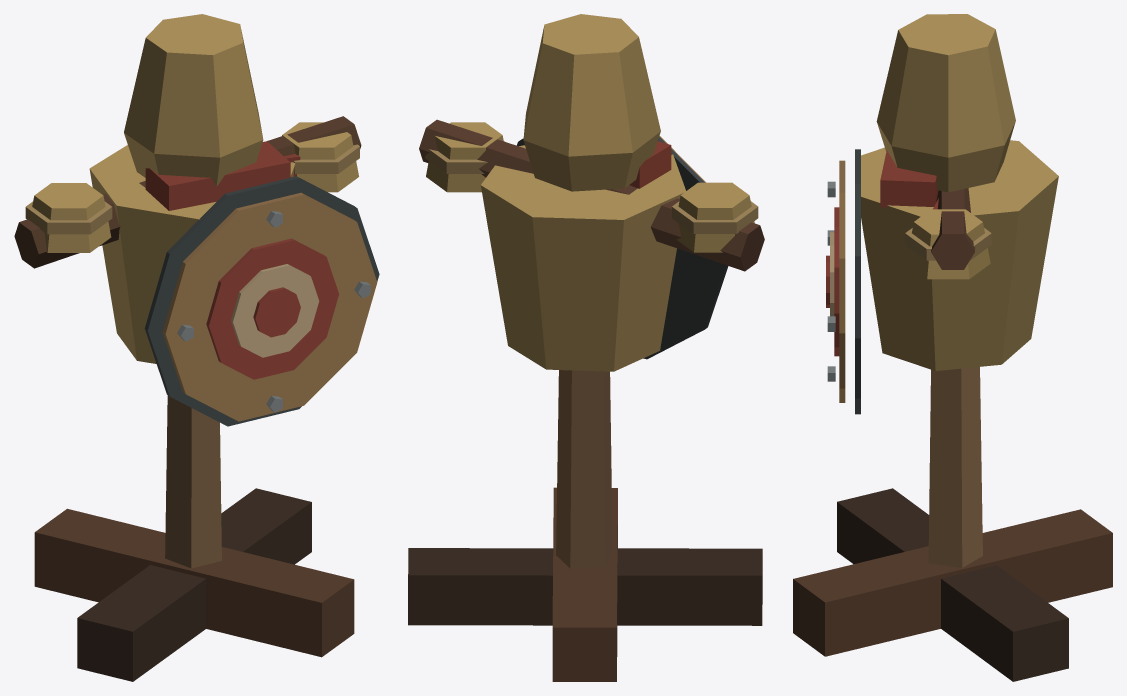
Rendered from straw-guard.glb.
The picture shows the model from 3 angles, left to right: view 1: azimuth 30°, elevation 25°; view 2: azimuth 150°, elevation 25°; view 3: azimuth 270°, elevation 25°; orthographic projection.
Visible parts, largest first — view 1: Lantern Yard straw guard; view 2: Lantern Yard straw guard; view 3: Lantern Yard straw guard.
Part boxes in pixels (x1,y1,x2,y2): Lantern Yard straw guard: (14,14,379,681); Lantern Yard straw guard: (408,14,764,681); Lantern Yard straw guard: (793,14,1112,681).
Size of the model in its own units: 0.8175 by 1.38 by 0.6944.
